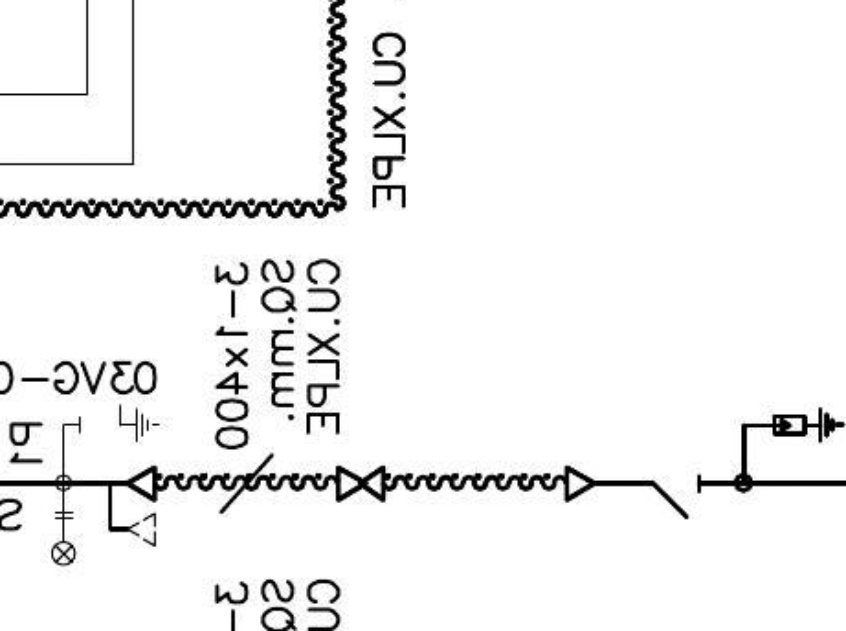22_gs: (76, 402, 160, 444)
22_ll: (49, 510, 77, 568)
terminator_single: (561, 464, 596, 505)
terminator_splicing_kits: (335, 464, 386, 503)
terminator_w_future: (105, 464, 159, 550)
